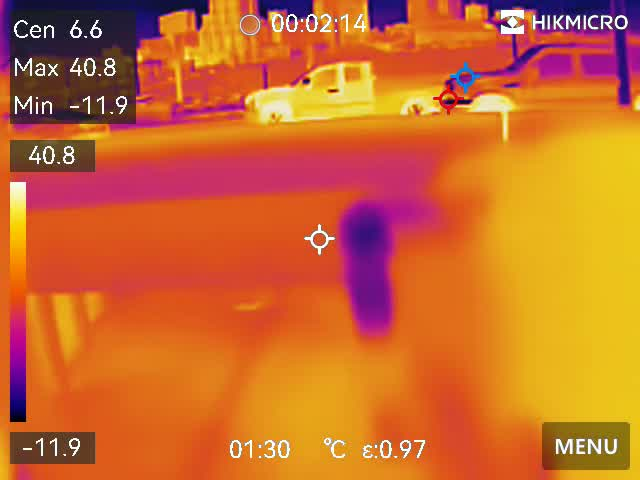largeCar: (445, 35, 640, 119)
lightTruck: (221, 60, 446, 123)
